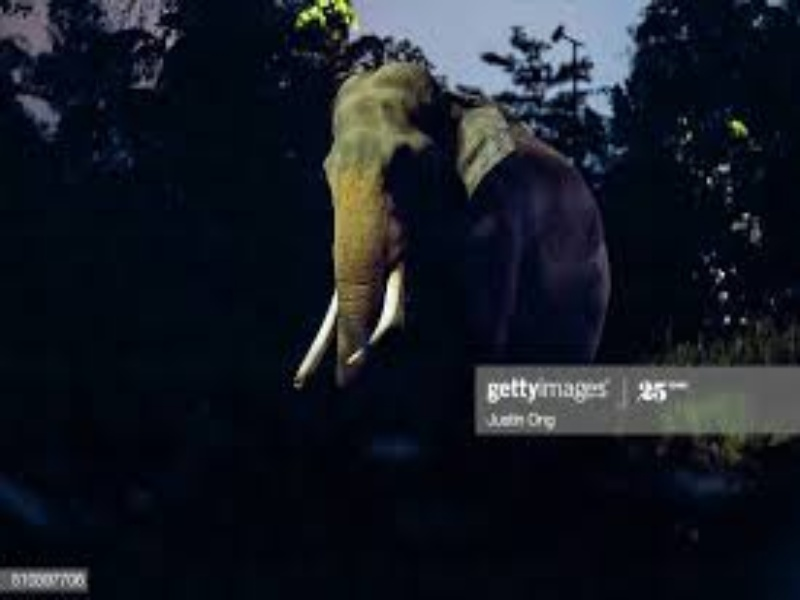elephant: (292, 47, 627, 468)
